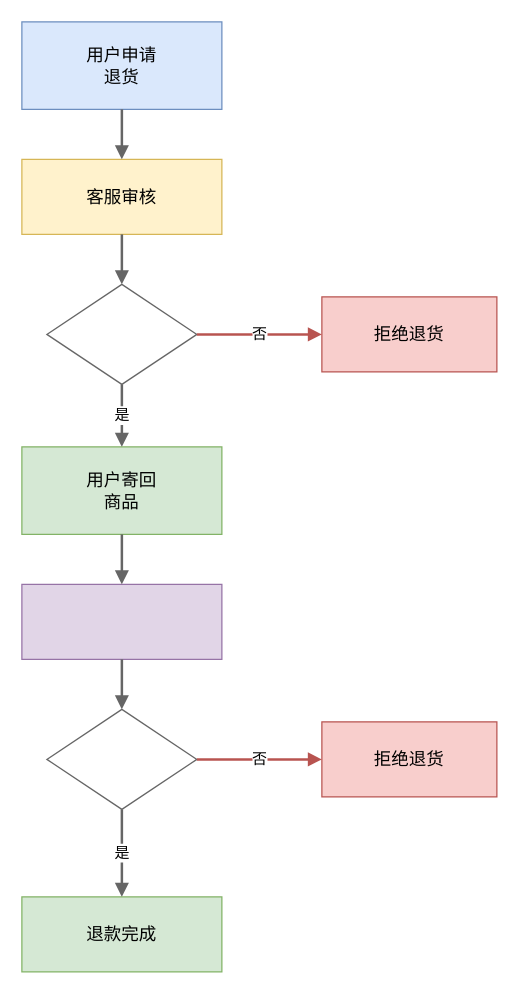
Some shapes in this 519 by 994 pixel diagram are drawn without their labels. Each missing label, with the box of its shape:
仓库验收: (21, 583, 222, 659)
审核结果: (46, 283, 197, 384)
验收结果: (46, 708, 197, 809)
